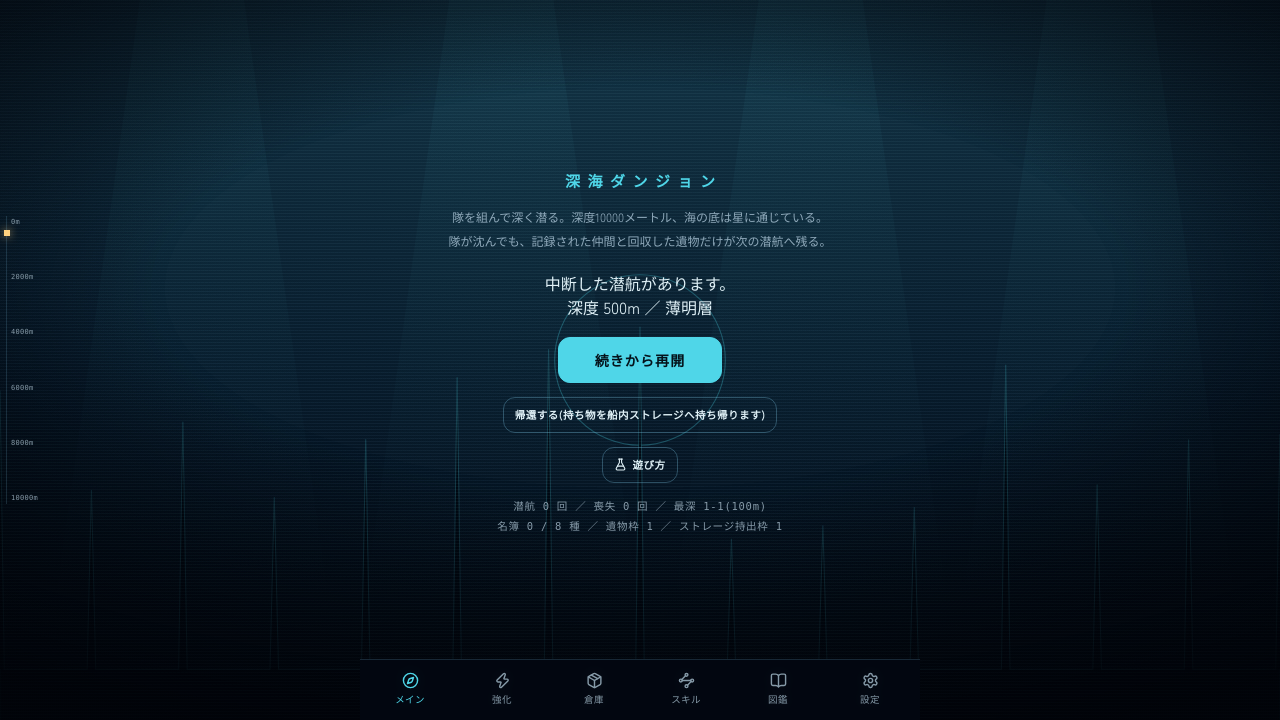
it: 潜航をやめて母船へ戻る › 確定すると「帰還」画面を経てタイトル画面へ戻り、中断セーブが消える
Click the button "続きから再開": (640, 360) [558,337,722,383]
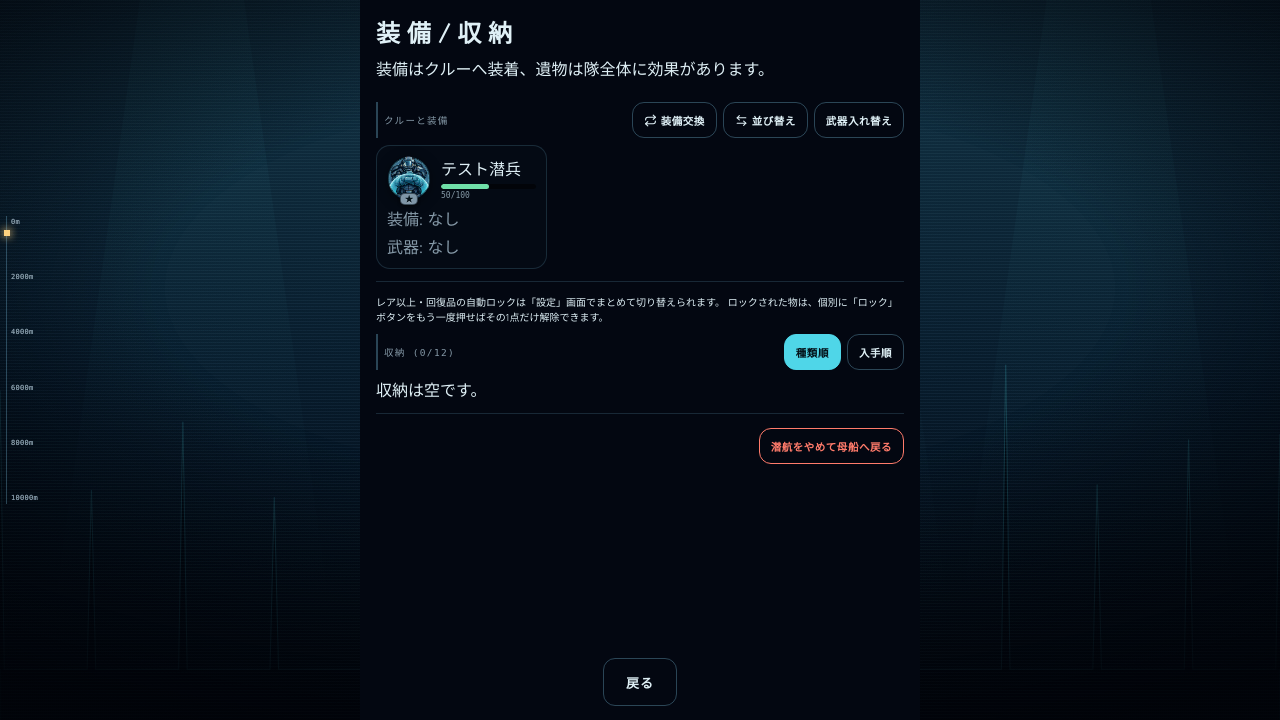
Click the button "潜航をやめて母船へ戻る": (831, 446) [759,428,904,464]
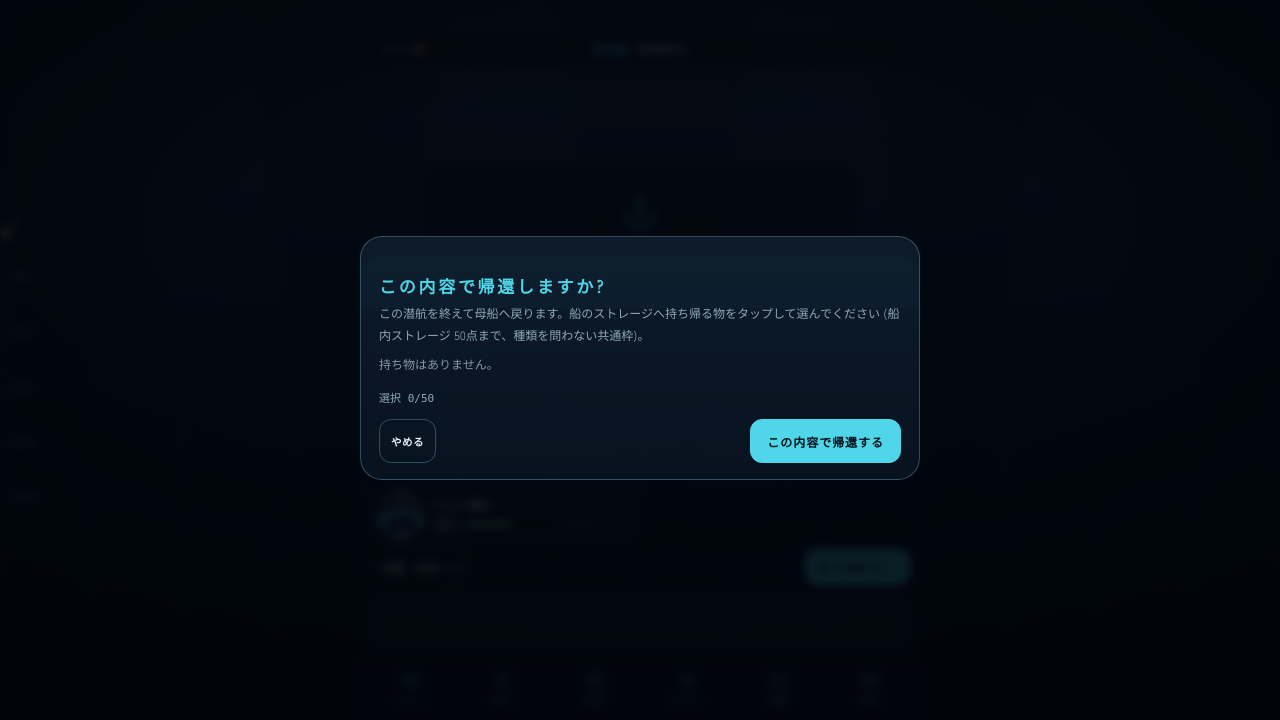
Click the button "この内容で帰還する": (826, 441) [750,419,901,463]
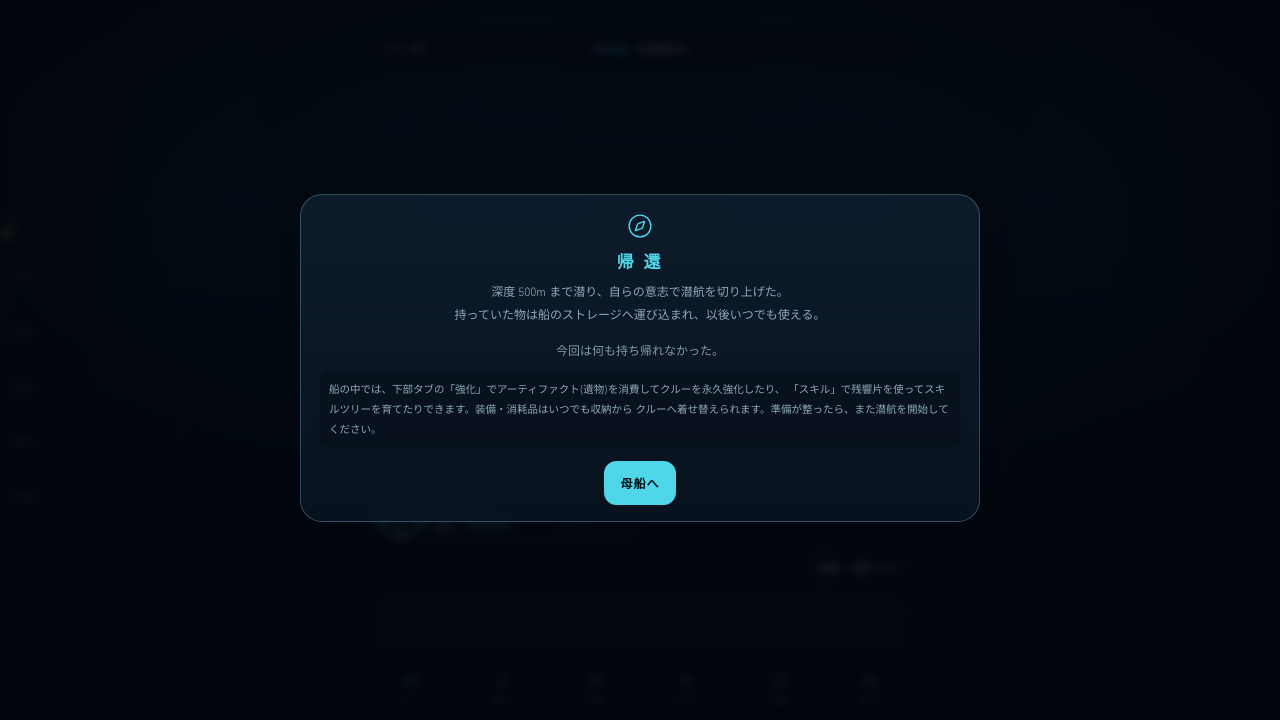
Check: the text "帰 還" is shown, box [617,248,663,273]
Click the button "母船へ": (640, 483) [604,461,676,505]
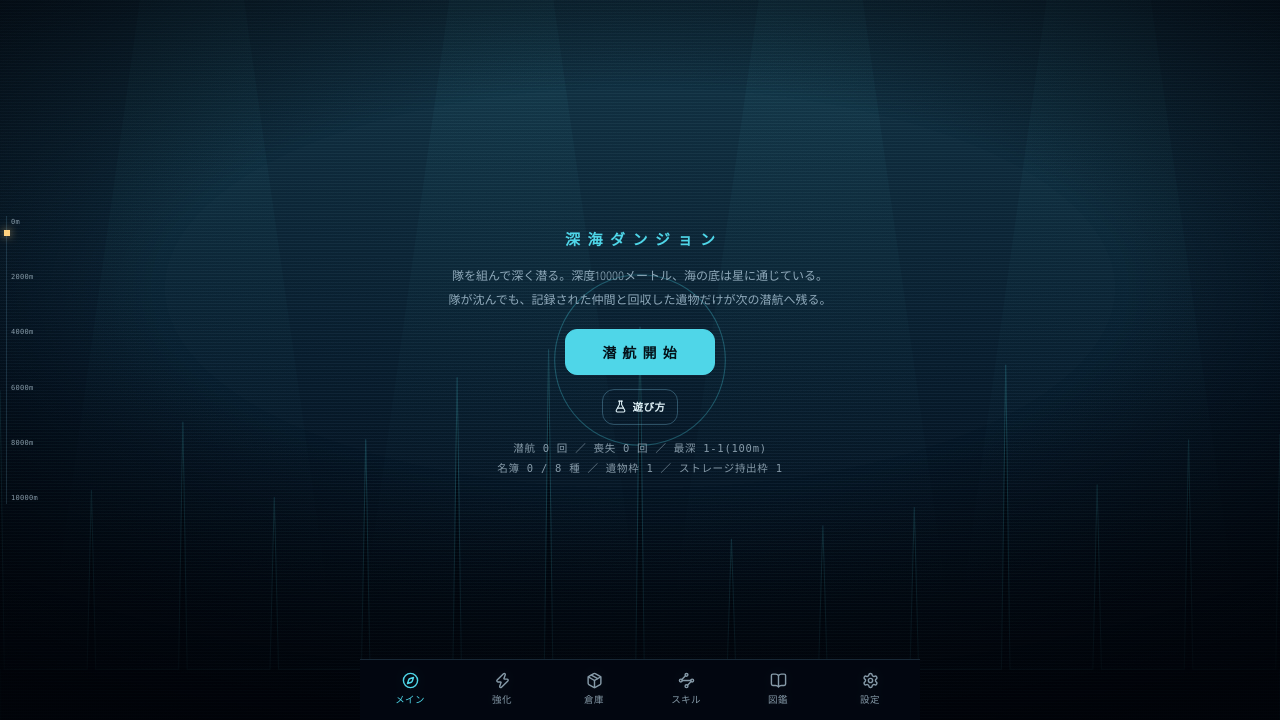
Check: the text "潜 航 開 始" is shown, box [565,329,715,375]
